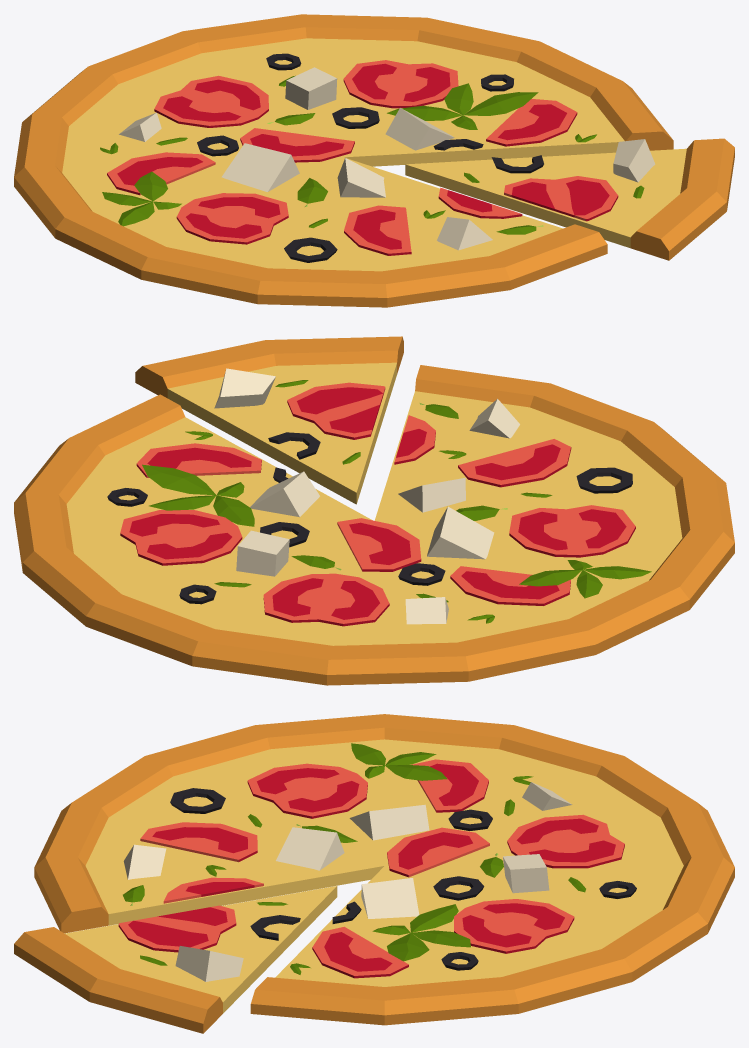
Rendered from Pizza.fbx.
The picture shows the model from 3 angles, top to bottom: view 1: azimuth 30°, elevation 25°; view 2: azimuth 150°, elevation 25°; view 3: azimuth 270°, elevation 25°; orthographic projection. The views are drawn at different scales.
Visible parts, largest first — view 1: Pizza2; view 2: Pizza2; view 3: Pizza2.
Part boxes in pixels (bbox=[...]): Pizza2: bbox=[14, 14, 734, 307]; Pizza2: bbox=[14, 336, 734, 685]; Pizza2: bbox=[14, 714, 734, 1033].
Bounding box in the file's own units: 9.99 × 0.5902 × 9.99.
1 material, 1 textured.
